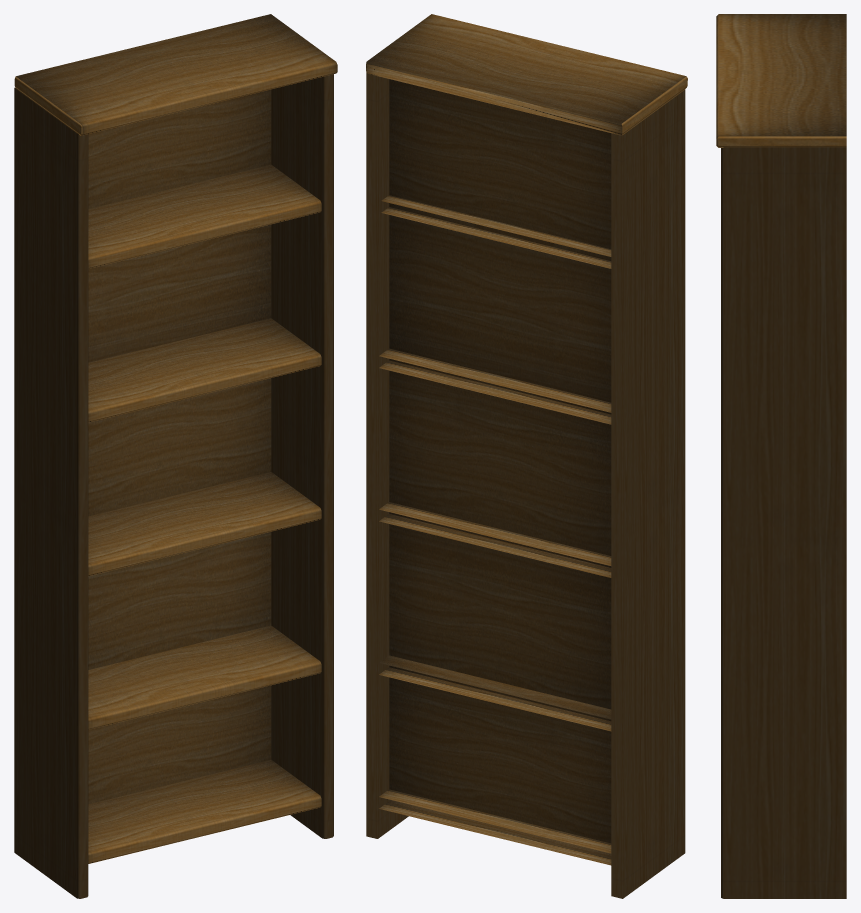
The model's file is bookcase_thin.fbx.
The picture shows the model from 3 angles, left to right: view 1: azimuth 30°, elevation 25°; view 2: azimuth 150°, elevation 25°; view 3: azimuth 270°, elevation 25°; orthographic projection.
Visible parts, largest first — view 1: bookcase_thin; view 2: bookcase_thin; view 3: bookcase_thin.
Part boxes in pixels (<box>): bookcase_thin: <box>14,14,337,898</box>; bookcase_thin: <box>366,14,687,898</box>; bookcase_thin: <box>716,14,846,898</box>.
Bounding box in the file's own units: 70.67 × 204 × 31.65.
